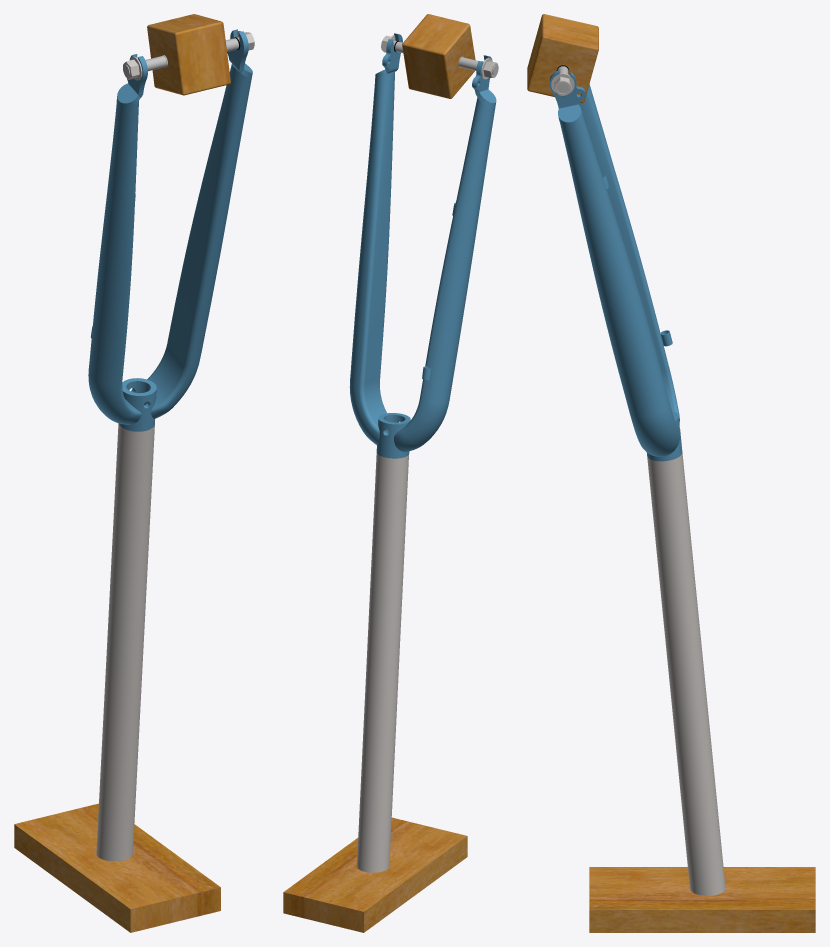
The model's file is Station_Gabel.glb.
The picture shows the model from 3 angles, left to right: view 1: azimuth 30°, elevation 25°; view 2: azimuth 150°, elevation 25°; view 3: azimuth 270°, elevation 25°; orthographic projection. The views are drawn at different scales.
Parts seen in each view (by area): view 1: 4(11B2DDD3-A4BB-4F5F-8D78-CA205BD7DB65), 1(DA119EC2-F96E-45F1-B7E0-B0B3249BC22C), Solid2(E316EFC1-45B7-43D8-8E90-0DC6C5CAE833), Solid4(528FF277-7927-486F-8C81-664BFF53546A), 1(D889C395-7B84-4305-ADC0-151B2B68EC7D), Solid6(B9DEC1A7-0B16-4D8B-8EAA-31C1307C4328), Solid3(26174589-D405-467F-A03D-025AC91386EB), Solid1(836C1A5C-6B53-48B4-AFC4-326E4CFB0600); view 2: 4(11B2DDD3-A4BB-4F5F-8D78-CA205BD7DB65), 1(DA119EC2-F96E-45F1-B7E0-B0B3249BC22C), Solid2(E316EFC1-45B7-43D8-8E90-0DC6C5CAE833), Solid4(528FF277-7927-486F-8C81-664BFF53546A), 1(D889C395-7B84-4305-ADC0-151B2B68EC7D), Solid6(B9DEC1A7-0B16-4D8B-8EAA-31C1307C4328), Solid3(26174589-D405-467F-A03D-025AC91386EB), Solid1(836C1A5C-6B53-48B4-AFC4-326E4CFB0600); view 3: 4(11B2DDD3-A4BB-4F5F-8D78-CA205BD7DB65), 1(DA119EC2-F96E-45F1-B7E0-B0B3249BC22C), Solid2(E316EFC1-45B7-43D8-8E90-0DC6C5CAE833), 1(D889C395-7B84-4305-ADC0-151B2B68EC7D), Solid4(528FF277-7927-486F-8C81-664BFF53546A), Solid1(836C1A5C-6B53-48B4-AFC4-326E4CFB0600).
Boxes of the visible parts, x1=… form: 4(11B2DDD3-A4BB-4F5F-8D78-CA205BD7DB65): x1=96, y1=423, x2=154, y2=861; 1(DA119EC2-F96E-45F1-B7E0-B0B3249BC22C): x1=14, y1=803, x2=220, y2=932; Solid2(E316EFC1-45B7-43D8-8E90-0DC6C5CAE833): x1=147, y1=64, x2=251, y2=418; Solid4(528FF277-7927-486F-8C81-664BFF53546A): x1=88, y1=101, x2=141, y2=424; 1(D889C395-7B84-4305-ADC0-151B2B68EC7D): x1=147, y1=14, x2=230, y2=95; Solid6(B9DEC1A7-0B16-4D8B-8EAA-31C1307C4328): x1=119, y1=378, x2=156, y2=431; Solid3(26174589-D405-467F-A03D-025AC91386EB): x1=116, y1=54, x2=147, y2=108; Solid1(836C1A5C-6B53-48B4-AFC4-326E4CFB0600): x1=227, y1=29, x2=252, y2=78; 4(11B2DDD3-A4BB-4F5F-8D78-CA205BD7DB65): x1=357, y1=453, x2=408, y2=872; 1(DA119EC2-F96E-45F1-B7E0-B0B3249BC22C): x1=283, y1=817, x2=467, y2=932; Solid2(E316EFC1-45B7-43D8-8E90-0DC6C5CAE833): x1=349, y1=71, x2=394, y2=444; Solid4(528FF277-7927-486F-8C81-664BFF53546A): x1=394, y1=97, x2=495, y2=451; 1(D889C395-7B84-4305-ADC0-151B2B68EC7D): x1=402, y1=14, x2=475, y2=98; Solid6(B9DEC1A7-0B16-4D8B-8EAA-31C1307C4328): x1=376, y1=413, x2=410, y2=458; Solid3(26174589-D405-467F-A03D-025AC91386EB): x1=472, y1=55, x2=496, y2=108; Solid1(836C1A5C-6B53-48B4-AFC4-326E4CFB0600): x1=375, y1=33, x2=402, y2=79; 4(11B2DDD3-A4BB-4F5F-8D78-CA205BD7DB65): x1=647, y1=452, x2=725, y2=895; 1(DA119EC2-F96E-45F1-B7E0-B0B3249BC22C): x1=589, y1=867, x2=815, y2=932; Solid2(E316EFC1-45B7-43D8-8E90-0DC6C5CAE833): x1=560, y1=116, x2=679, y2=456; 1(D889C395-7B84-4305-ADC0-151B2B68EC7D): x1=527, y1=14, x2=598, y2=103; Solid4(528FF277-7927-486F-8C81-664BFF53546A): x1=579, y1=84, x2=679, y2=424; Solid1(836C1A5C-6B53-48B4-AFC4-326E4CFB0600): x1=549, y1=70, x2=585, y2=127.
Bounding box in the file's own units: 0.1376 × 0.908 × 0.2674.
6 materials, 2 textured.
